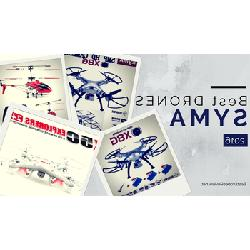drone: (5, 147, 81, 190), (67, 67, 130, 112), (101, 136, 170, 175), (1, 65, 63, 99)
